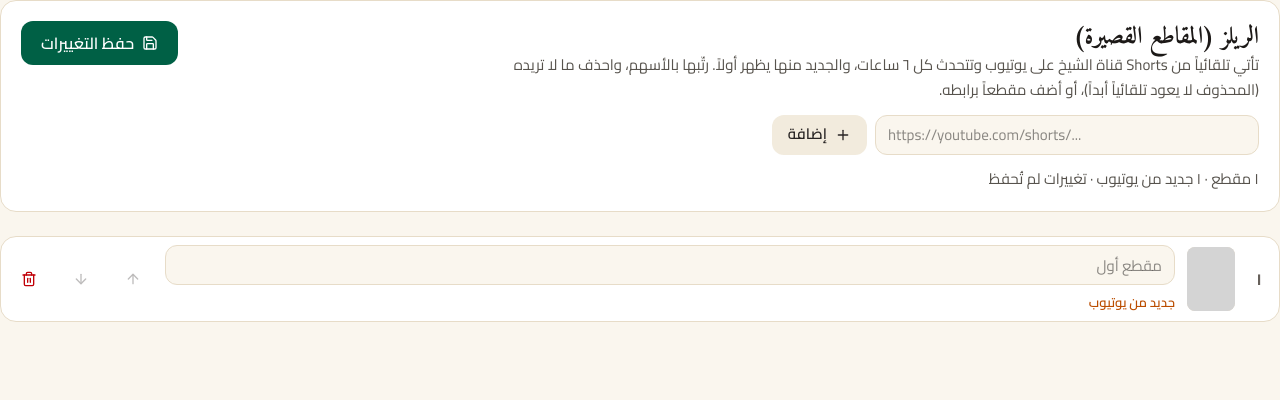
Scenario: ReelsManager › refuses a link it does not understand and does not save
In the field named "رابط مقطع من يوتيوب": (1067, 134) [875,114,1259,154], type "ليس رابطاً"
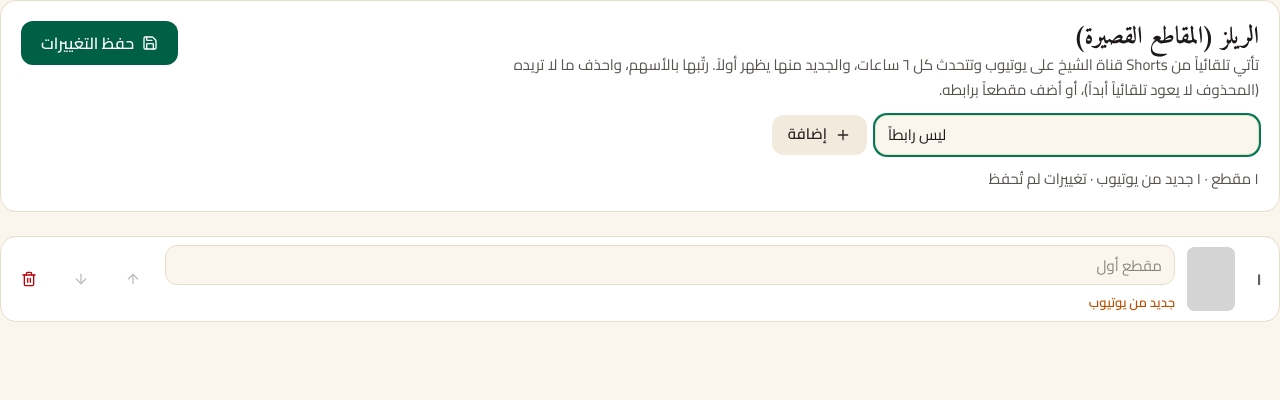
Click the button "إضافة": (819, 134) [772,114,867,154]
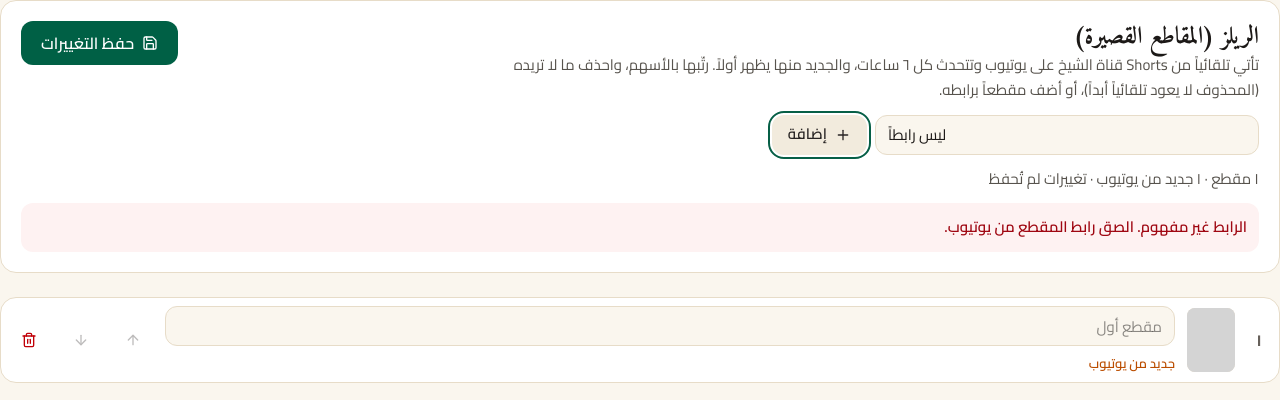
Result: the message shows "الرابط غير مفهوم" at [944,212,1247,241]
